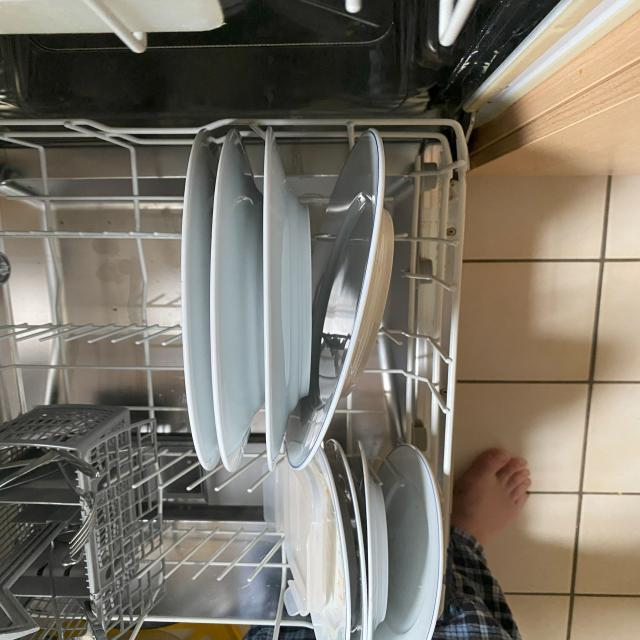clutery_bin: (4, 445, 97, 631)
empty_slot: (1, 135, 176, 411), (128, 453, 300, 609)
